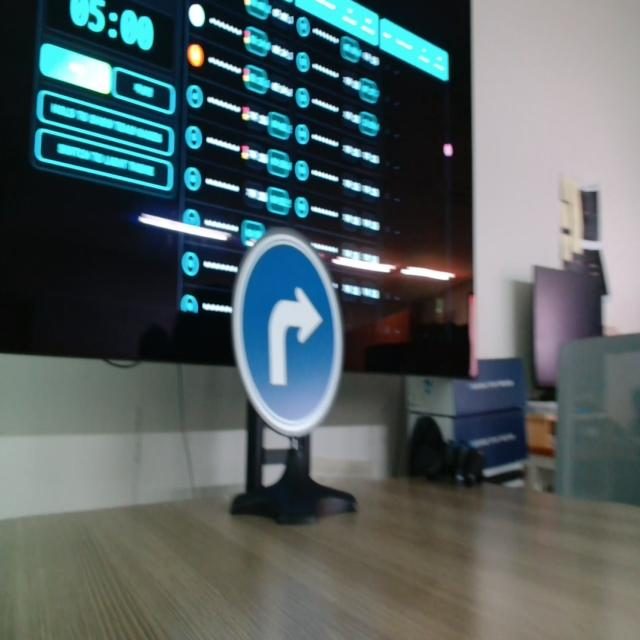right_dierection: (229, 214, 349, 432)
